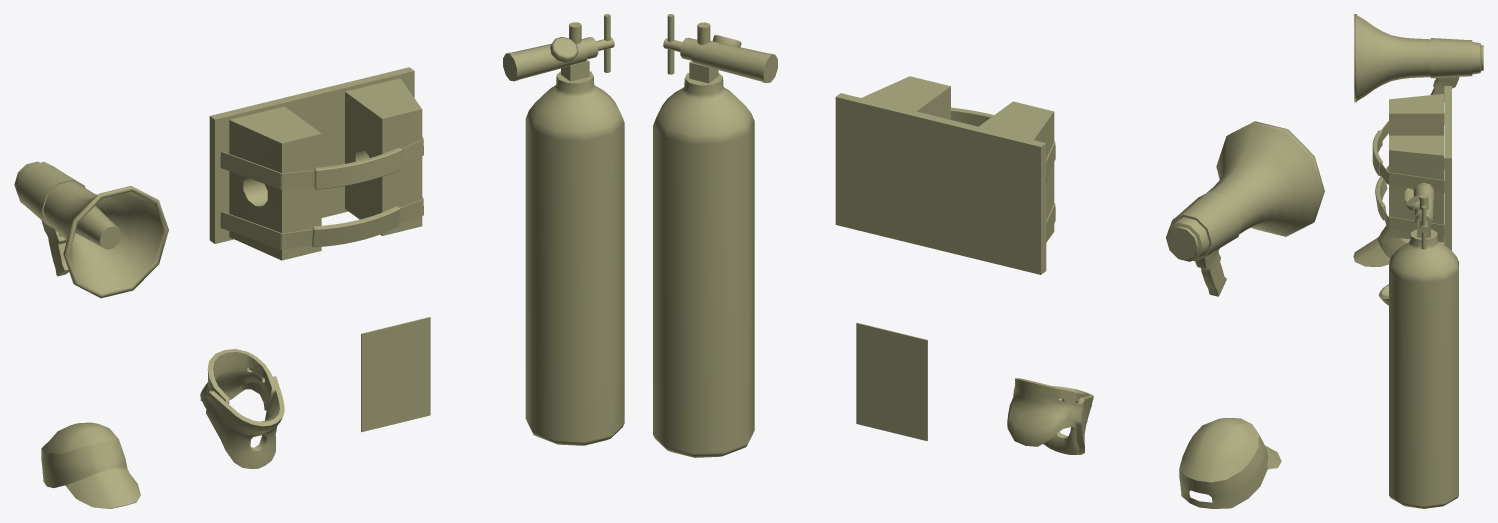
Rendered from Medic_Patient_Props_Pack_A01_low.fbx.
3 renders of one model, left to right at view 1: azimuth 30°, elevation 25°; view 2: azimuth 150°, elevation 25°; view 3: azimuth 270°, elevation 25°, orthographic. The views are drawn at different scales.
Parts seen in each view (by area): view 1: Oxy_Tank_LOW, HeadVice_low, Megaphone_LOW, Clipboard_Low, NeckBrace_LOW, Hat_Low; view 2: Oxy_Tank_LOW, HeadVice_low, Megaphone_LOW, Clipboard_Low, Hat_Low, NeckBrace_LOW; view 3: Oxy_Tank_LOW, HeadVice_low, Megaphone_LOW, Hat_Low.
Boxes of the visible parts, x1,y1,x2,y2 form: Oxy_Tank_LOW: (503, 14, 624, 445); HeadVice_low: (209, 67, 423, 260); Megaphone_LOW: (14, 161, 168, 298); Clipboard_Low: (361, 317, 430, 432); NeckBrace_LOW: (200, 349, 284, 468); Hat_Low: (41, 422, 140, 508); Oxy_Tank_LOW: (653, 14, 777, 457); HeadVice_low: (835, 76, 1055, 274); Megaphone_LOW: (1166, 121, 1324, 296); Clipboard_Low: (856, 322, 927, 440); Hat_Low: (1179, 418, 1281, 508); NeckBrace_LOW: (1007, 378, 1093, 454); Oxy_Tank_LOW: (1389, 183, 1458, 508); HeadVice_low: (1372, 86, 1451, 250); Megaphone_LOW: (1354, 14, 1483, 102); Hat_Low: (1353, 226, 1444, 266).
Bounding box in the file's own units: 147 × 94.85 × 37.21.
